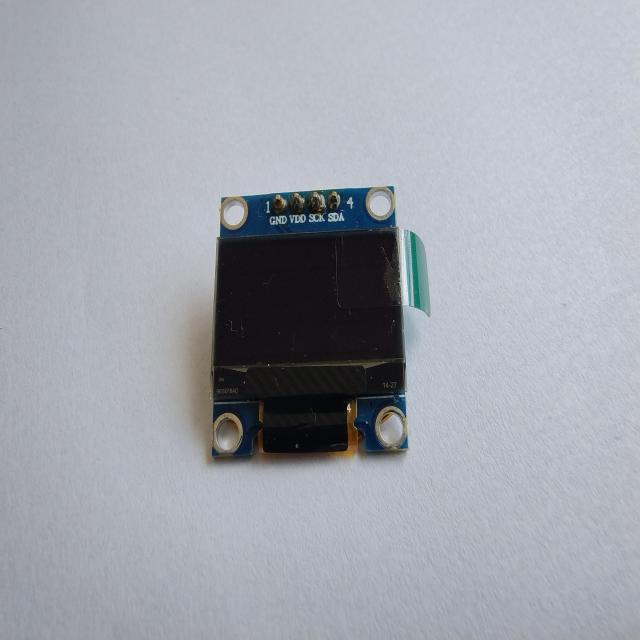oled: (194, 169, 424, 468)
